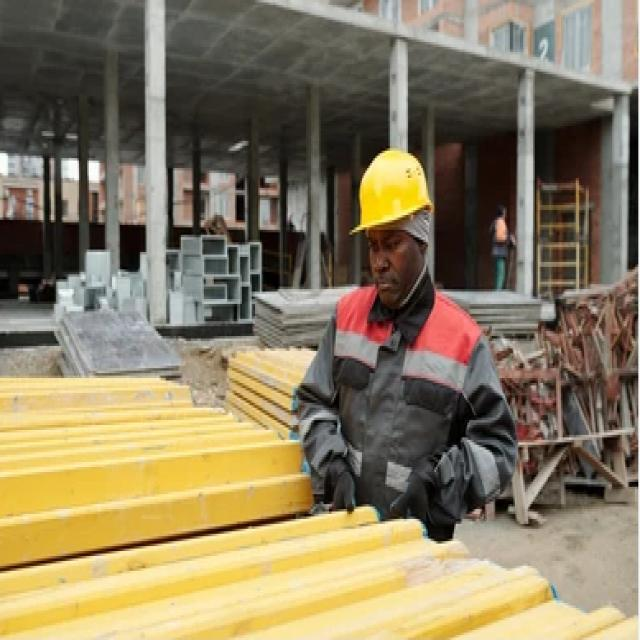helmet: (347, 144, 436, 304)
